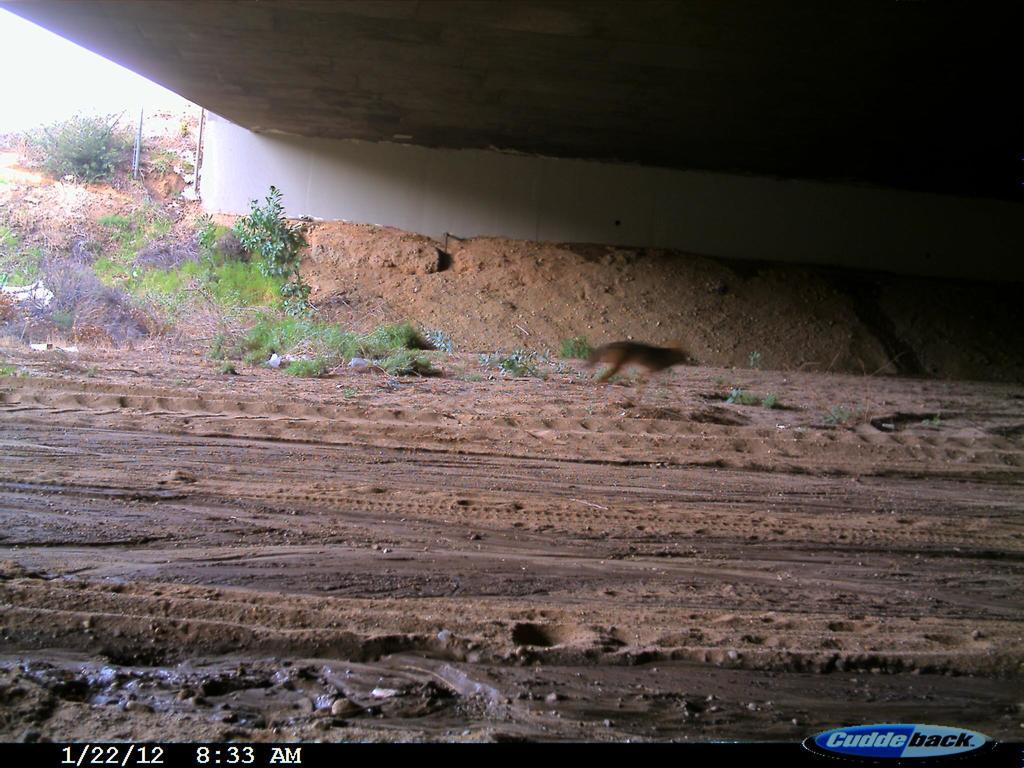coyote: (574, 310, 706, 399)
